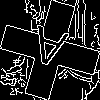A: (25, 25, 70, 78)
